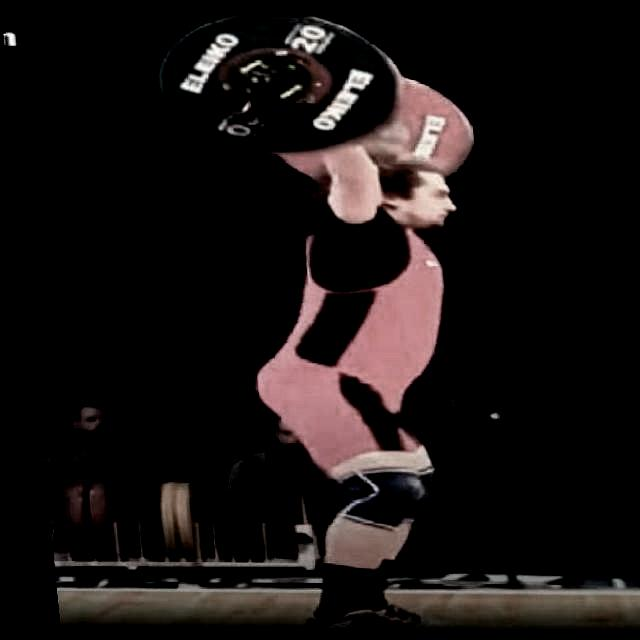barbell: (146, 25, 407, 158)
